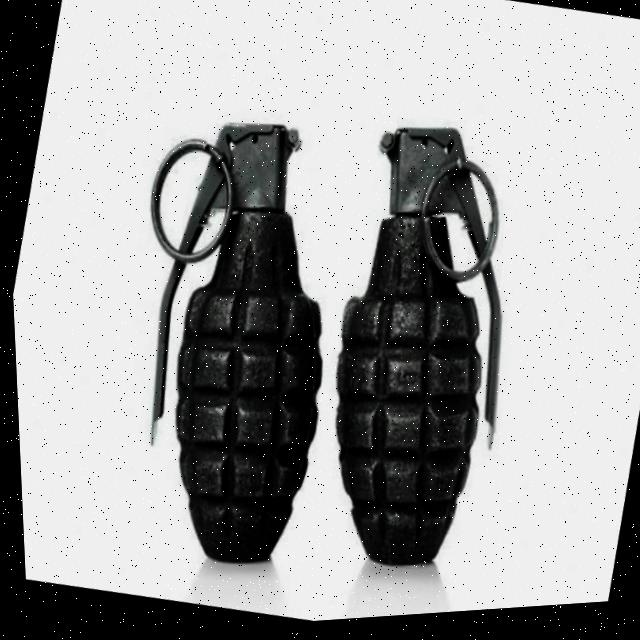grenade: (51, 0, 596, 627)
